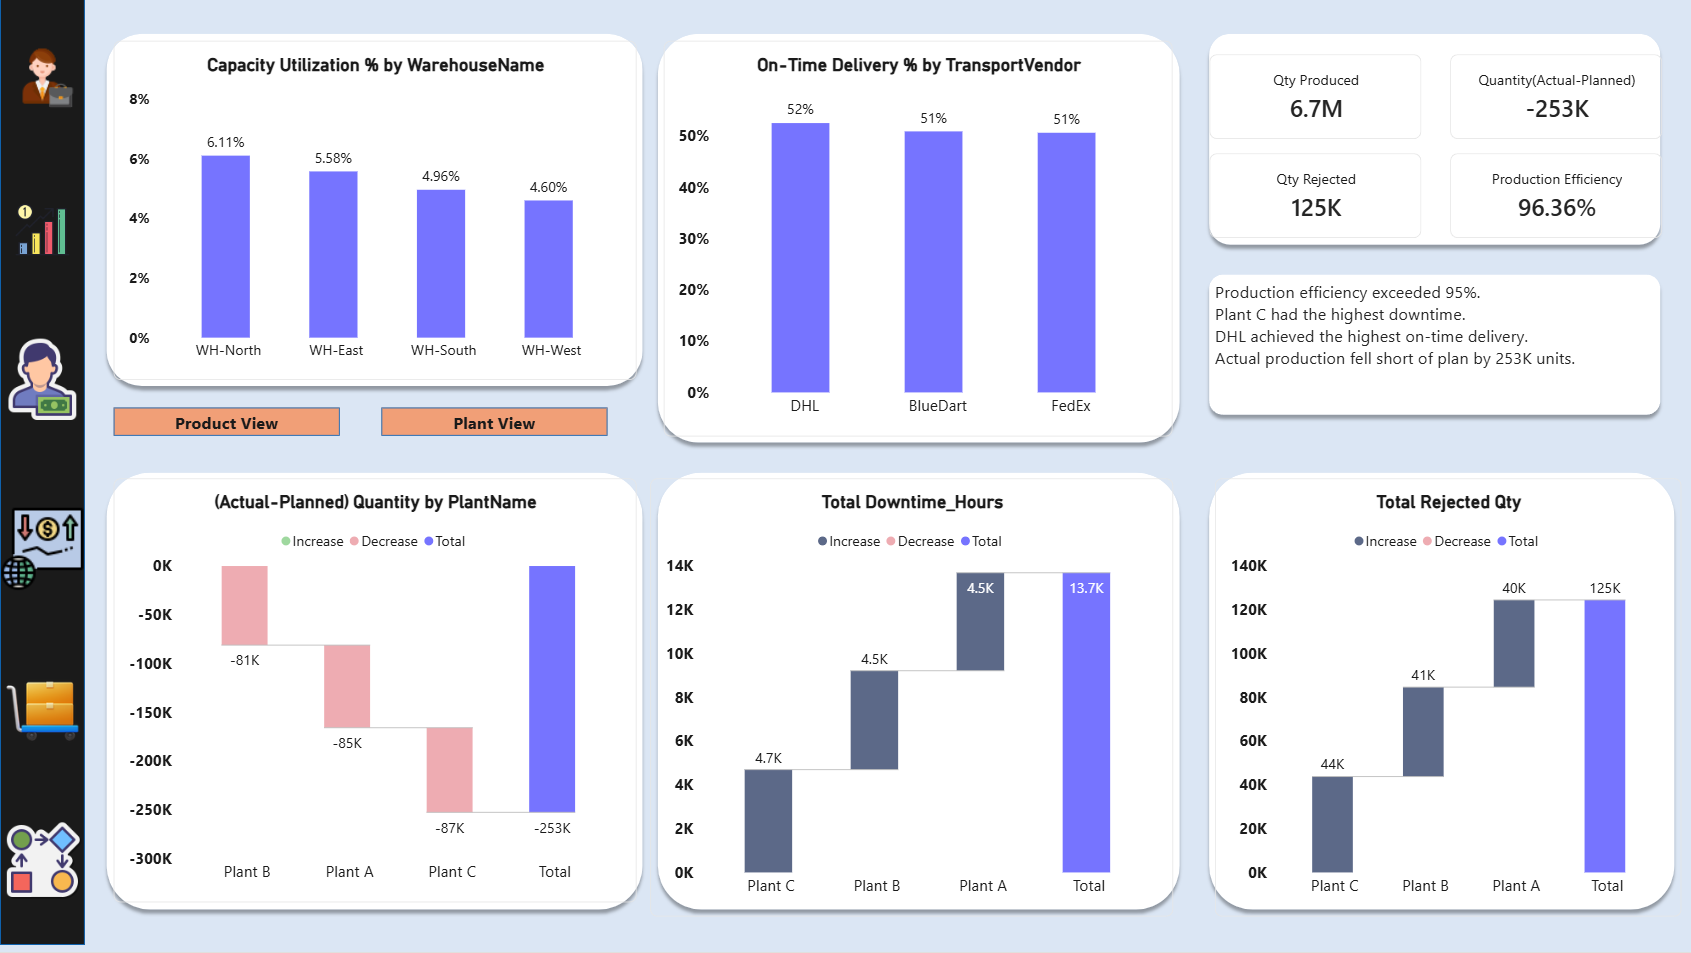

The page's visual inventory and layout, read from the dashboard file:
{"tool":"powerbi","page":{"name":"Operations Dashboard","canvas":[1920,1080],"ordinal":5},"visuals":[{"type":"shape","box":[1360,32,528,256],"z":0},{"type":"shape","box":[736,32,608,480],"z":1000},{"type":"shape","box":[112,32,624,416],"z":2000},{"type":"shape","box":[736,528,608,512],"z":3000},{"type":"shape","box":[112,528,624,512],"z":4000},{"type":"waterfallChart","fields":{"Category":["Dim_Plant.PlantName"],"Y":["Fact_Production.Actual-Planned Quantity"]},"box":[128,544,592,480],"z":5000},{"type":"shape","box":[1360,304,528,176],"z":7000},{"type":"cardVisual","fields":{"Data":["Fact_Production.Actual-Planned Quantity"]},"box":[1641.5,64,240,96],"z":8000},{"type":"cardVisual","fields":{"Data":["Sum(Fact_Production.ActualQty)"]},"box":[1369.5,64,240,96],"z":9000},{"type":"cardVisual","fields":{"Data":["Sum(Fact_Production.RejectedQty)"]},"box":[1369.5,176,240,96],"z":10000},{"type":"waterfallChart","title":"Total Downtime_Hours","fields":{"Category":["Dim_Plant.PlantName"],"Y":["Sum(Fact_Production.DowntimeHours)"]},"box":[736,544,592,496],"z":11000},{"type":"shape","box":[1360,528,544,512],"z":12000},{"type":"waterfallChart","title":"Total Rejected Qty","fields":{"Category":["Dim_Plant.PlantName"],"Y":["Sum(Fact_Production.RejectedQty)"]},"box":[1376,544,528,496],"z":13000},{"type":"cardVisual","fields":{"Data":["Fact_Production.Production Efficiency"]},"box":[1641.5,176,240,96],"z":14000},{"type":"columnChart","fields":{"Category":["Dim_Transport.TransportVendor"],"Y":["_Measure.On-Time Delivery %"]},"box":[752,48,576,448],"z":15000},{"type":"columnChart","fields":{"Category":["Dim_Warehouse.WarehouseName"],"Y":["Fact_Production.Capacity Utilization %"]},"box":[128,48,592,384],"z":16000},{"type":"shape","box":[128,464,256,32],"z":17000},{"type":"shape","box":[432,464,256,32],"z":18000},{"type":"textbox","box":[1376,320,480,128],"z":19000},{"type":"shape","box":[0,0,96,1072],"z":20000},{"type":"image","box":[0,224,96,80],"z":21000},{"type":"image","box":[0,576,96,96],"z":22000},{"type":"image","box":[0,384,96,96],"z":23000},{"type":"image","box":[0,48,96,80],"z":24000},{"type":"image","box":[0,752,96,112],"z":25000},{"type":"image","box":[0,928,96,96],"z":26000}]}

Visuals, with their boxes on the page's 1920x1080 design canvas (x1, y1, x2, y2). These are canvas units, not pixel positions in the 1691x953 screenshot, which may show the page scaled, cropped or inside an application window:
shape: 1360:32:1888:288
shape: 736:32:1344:512
shape: 112:32:736:448
shape: 736:528:1344:1040
shape: 112:528:736:1040
waterfallChart - Dim_Plant.PlantName x Fact_Production.Actual-Planned Quantity: 128:544:720:1024
shape: 1360:304:1888:480
cardVisual - Fact_Production.Actual-Planned Quantity: 1642:64:1882:160
cardVisual - Sum(Fact_Production.ActualQty): 1370:64:1610:160
cardVisual - Sum(Fact_Production.RejectedQty): 1370:176:1610:272
"Total Downtime_Hours" waterfallChart: 736:544:1328:1040
shape: 1360:528:1904:1040
"Total Rejected Qty" waterfallChart: 1376:544:1904:1040
cardVisual - Fact_Production.Production Efficiency: 1642:176:1882:272
columnChart - Dim_Transport.TransportVendor x _Measure.On-Time Delivery %: 752:48:1328:496
columnChart - Dim_Warehouse.WarehouseName x Fact_Production.Capacity Utilization %: 128:48:720:432
shape: 128:464:384:496
shape: 432:464:688:496
textbox: 1376:320:1856:448
shape: 0:0:96:1072
image: 0:224:96:304
image: 0:576:96:672
image: 0:384:96:480
image: 0:48:96:128
image: 0:752:96:864
image: 0:928:96:1024
